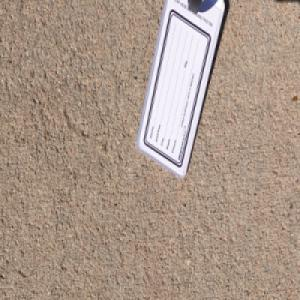LuggageTag: (135, 0, 225, 181)
